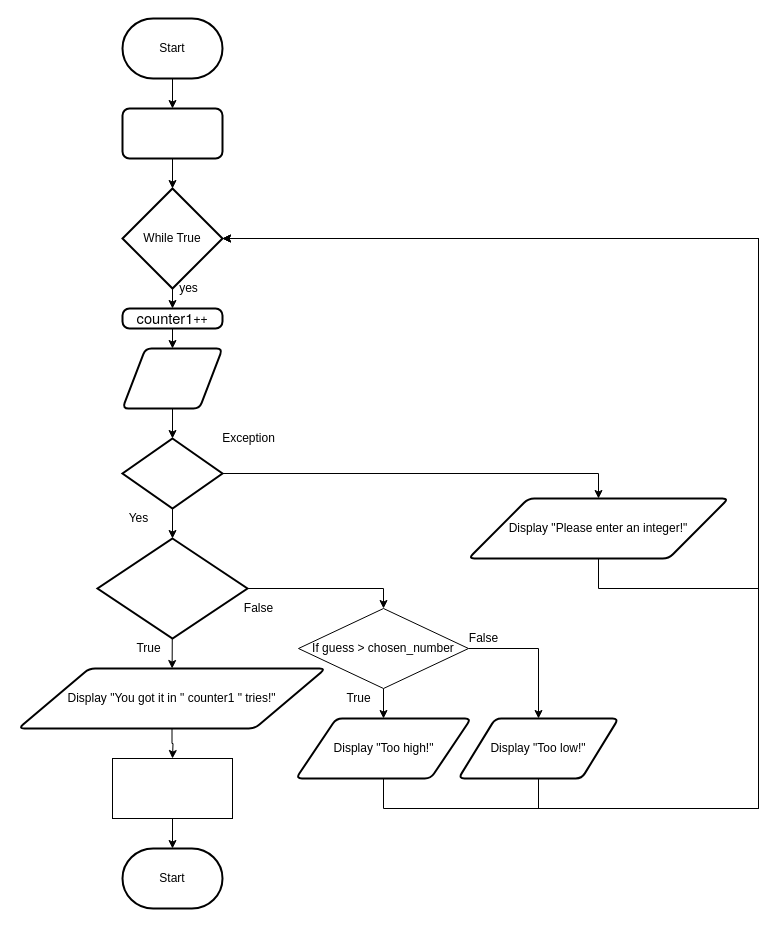
The diagram is 784 pixels wide and 926 high, and some of its shapes have lost their labels. Here are the shapes that lost their labels. From the top down, the centre of each, then its label:
At (x=172, y=133): "Set chosen_number <- randint(0-9)".
At (x=172, y=378): "Get guess".
At (x=172, y=473): "Try".
At (x=172, y=588): "IF guess == chosen_number".
At (x=172, y=788): "break".
